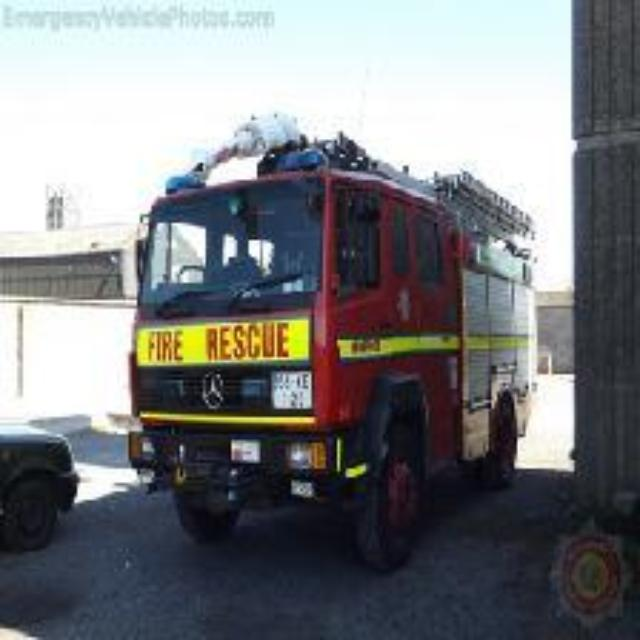emergency: (98, 125, 542, 550)
